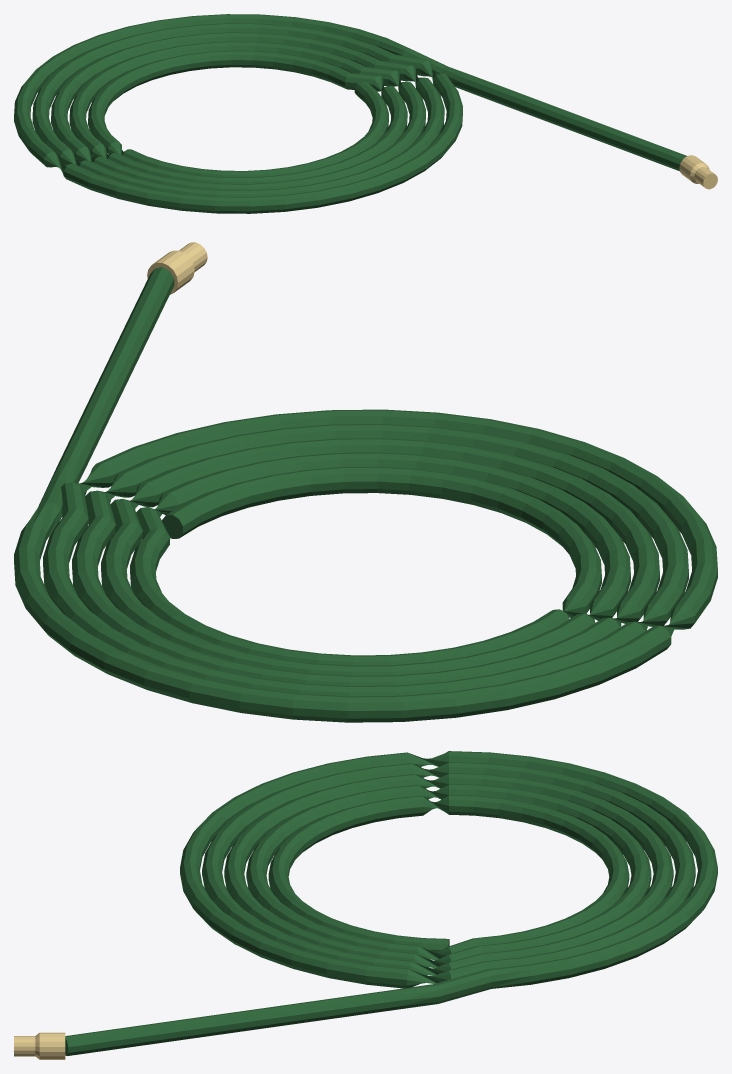
Rendered from mangueira_jardim.glb.
The picture shows the model from 3 angles, top to bottom: view 1: azimuth 30°, elevation 25°; view 2: azimuth 150°, elevation 25°; view 3: azimuth 270°, elevation 25°; orthographic projection. The views are drawn at different scales.
Parts seen in each view (by area): view 1: mangueira_jardim_mangueira, mangueira_jardim_latao; view 2: mangueira_jardim_mangueira, mangueira_jardim_latao; view 3: mangueira_jardim_mangueira, mangueira_jardim_latao.
Boxes of the visible parts, left/top/right/bottom form: mangueira_jardim_mangueira: left=14, top=14, right=687, bottom=213; mangueira_jardim_latao: left=679, top=155, right=717, bottom=189; mangueira_jardim_mangueira: left=14, top=267, right=717, bottom=722; mangueira_jardim_latao: left=147, top=242, right=207, bottom=294; mangueira_jardim_mangueira: left=65, top=751, right=717, bottom=1055; mangueira_jardim_latao: left=14, top=1032, right=65, bottom=1059.
Size of the model in its own units: 0.8014 by 0.036 by 0.8254.
